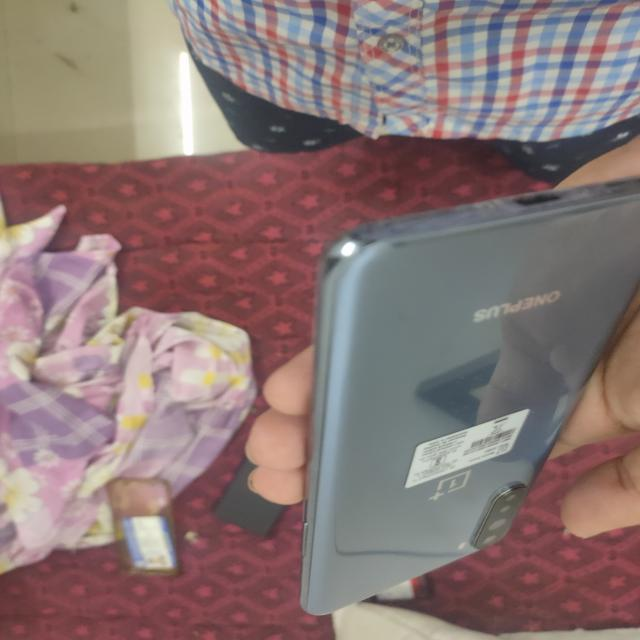Phone: (294, 175, 640, 620)
